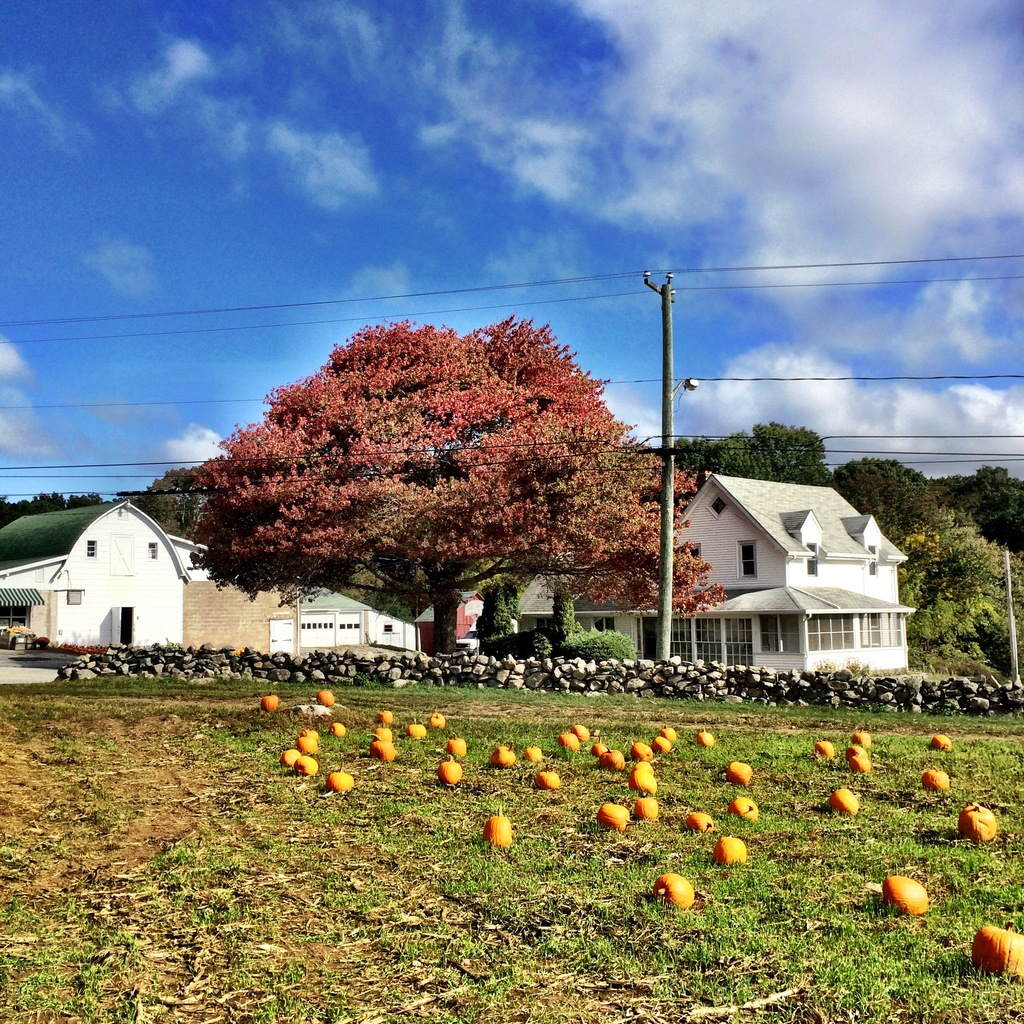Tree: (181, 289, 702, 670)
